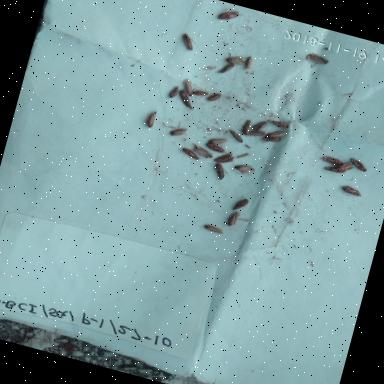pbw: (298, 49, 332, 73), (214, 4, 242, 28), (185, 140, 215, 160), (200, 132, 230, 152), (233, 114, 256, 140), (178, 32, 202, 56), (173, 89, 198, 112), (348, 154, 374, 176), (230, 160, 258, 180), (142, 106, 163, 132), (317, 151, 347, 169), (166, 122, 192, 142), (213, 148, 238, 168), (319, 162, 346, 180), (264, 126, 291, 144), (176, 77, 199, 98), (334, 158, 358, 178), (258, 132, 284, 150), (230, 195, 252, 216), (223, 52, 248, 70), (200, 140, 228, 156), (264, 116, 292, 132), (176, 146, 202, 163), (222, 210, 242, 232), (338, 183, 363, 200), (208, 161, 228, 182), (224, 127, 246, 146), (201, 90, 224, 108), (250, 116, 270, 136), (240, 54, 258, 76), (201, 222, 227, 237), (190, 86, 212, 102), (244, 127, 267, 142), (217, 60, 235, 78), (165, 83, 180, 101)
